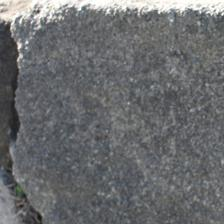Crack: (1, 10, 49, 208)
